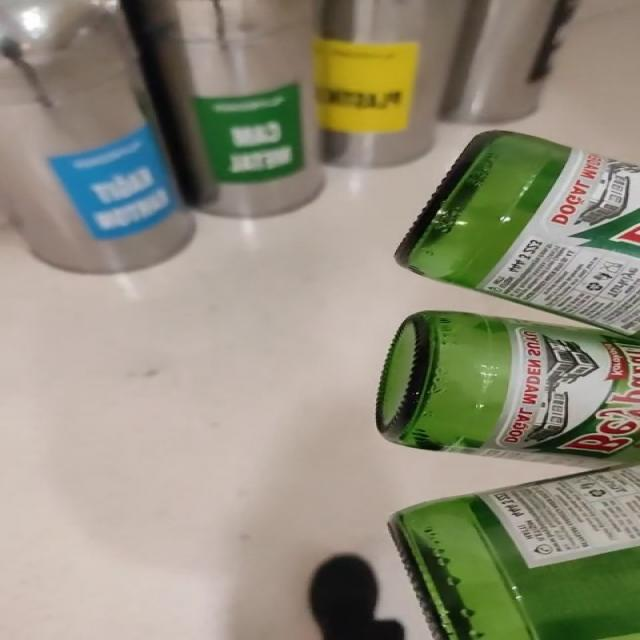glass: (377, 131, 640, 640)
